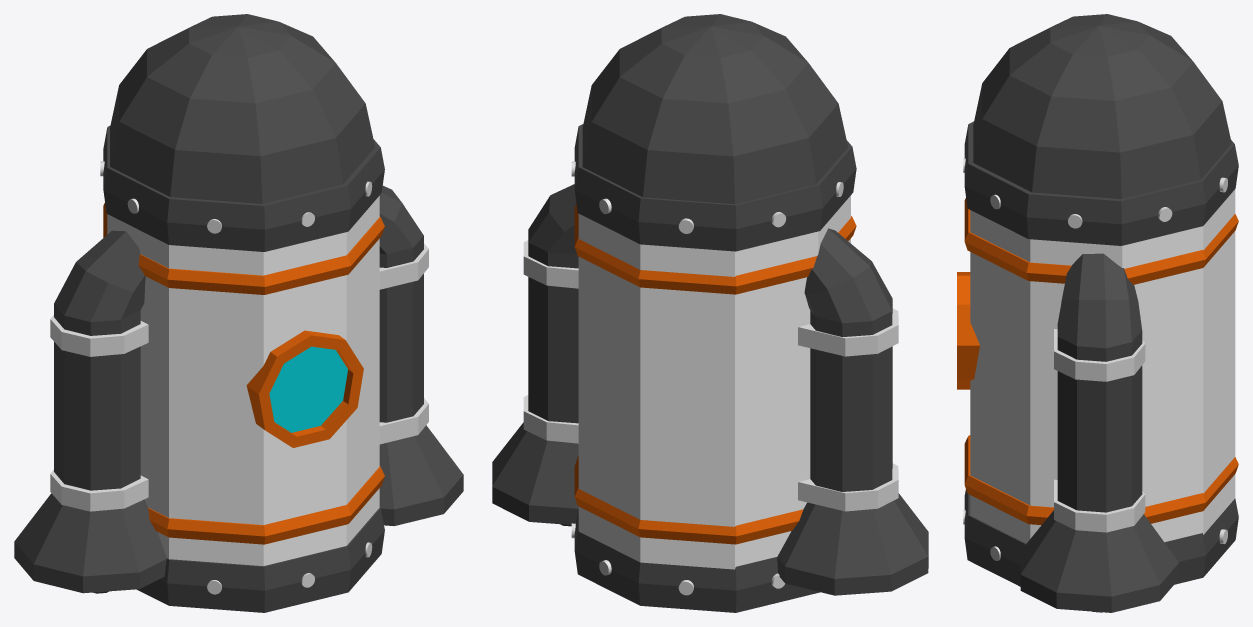
File: Rocket Wide 2.fbx
3 renders of one model, left to right at view 1: azimuth 30°, elevation 25°; view 2: azimuth 150°, elevation 25°; view 3: azimuth 270°, elevation 25°, orthographic. The views are drawn at different scales.
Visible parts, largest first — view 1: Окружность.011; view 2: Окружность.011; view 3: Окружность.011.
Part boxes in pixels (x1,y1,x2,y2): Окружность.011: (14, 14, 463, 612); Окружность.011: (492, 14, 928, 612); Окружность.011: (957, 14, 1238, 612).
Size of the model in its own units: 490 by 584 by 290.
